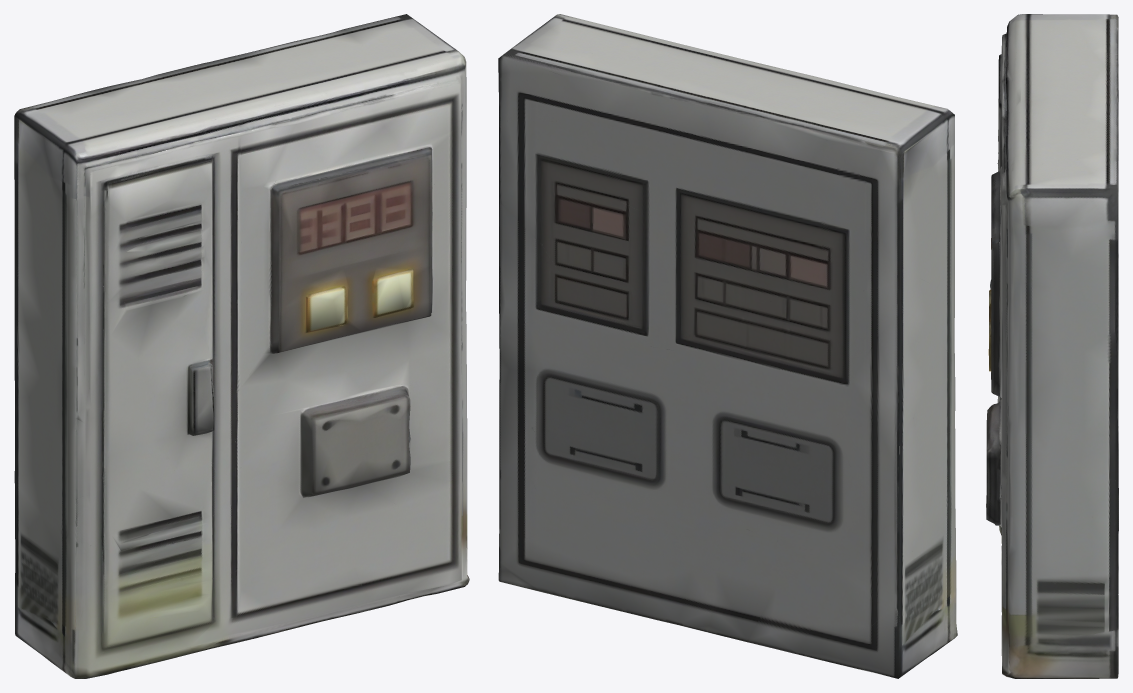
File: Control.fbx
The picture shows the model from 3 angles, left to right: view 1: azimuth 30°, elevation 25°; view 2: azimuth 150°, elevation 25°; view 3: azimuth 270°, elevation 25°; orthographic projection. The views are drawn at different scales.
Visible parts, largest first — view 1: Mesh_0; view 2: Mesh_0; view 3: Mesh_0.
Part boxes in pixels (x1,y1,x2,y2): Mesh_0: (14, 14, 469, 678); Mesh_0: (498, 14, 957, 678); Mesh_0: (986, 14, 1118, 678).
Bounding box in the file's own units: 159 × 200 × 49.33.
1 material, 1 textured.
